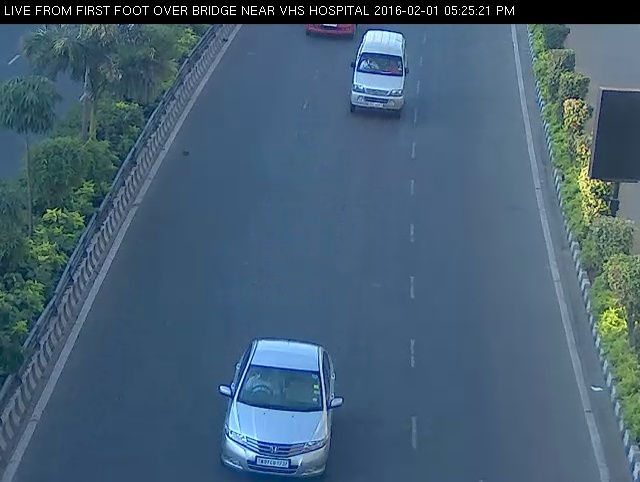Car: (216, 328, 346, 479), (344, 24, 416, 124), (300, 14, 364, 47)
